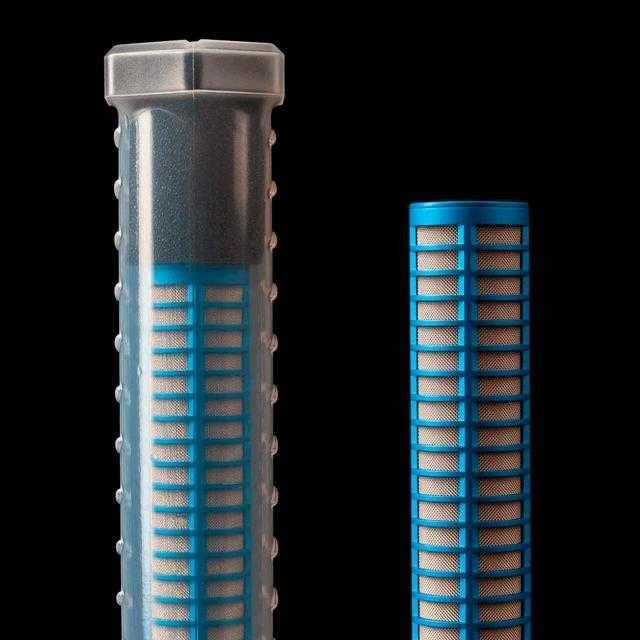microphone: (92, 31, 297, 640), (385, 197, 561, 640)
